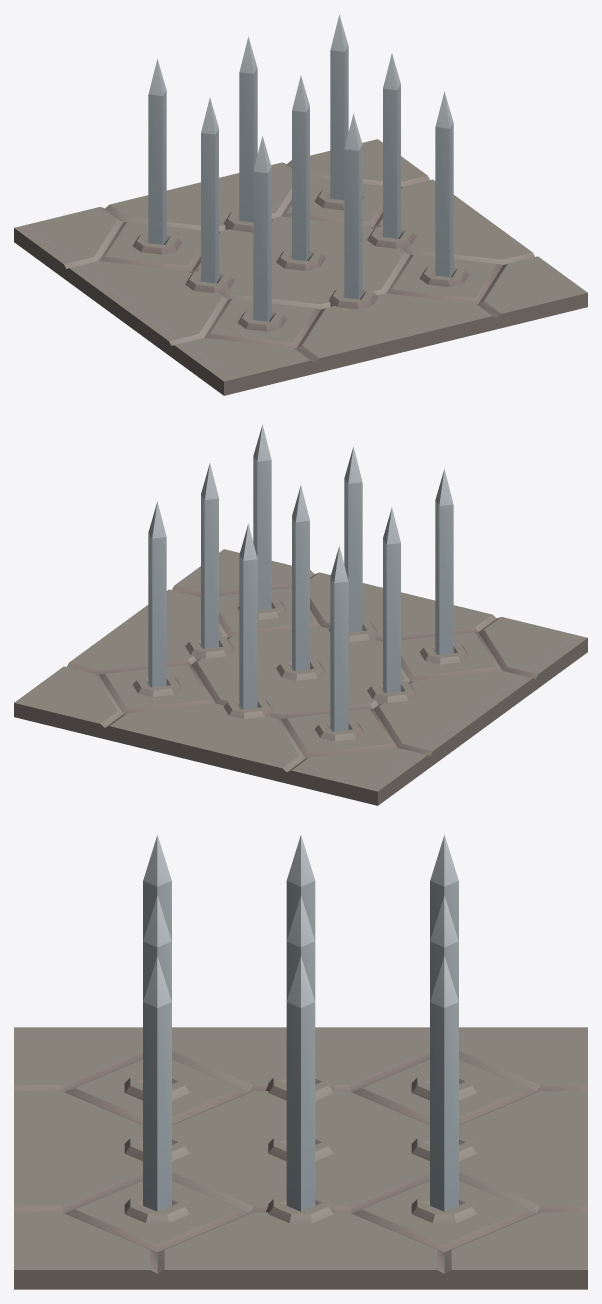
The model's file is floor_tile_big_spikes.gltf.
The picture shows the model from 3 angles, top to bottom: view 1: azimuth 30°, elevation 25°; view 2: azimuth 150°, elevation 25°; view 3: azimuth 270°, elevation 25°; orthographic projection. The views are drawn at different scales.
Parts seen in each view (by area): view 1: floor_tile_big_spikes, spikes; view 2: floor_tile_big_spikes, spikes; view 3: floor_tile_big_spikes, spikes.
Part boxes in pixels (x1,y1,x2,y2): floor_tile_big_spikes: (14,139,587,395); spikes: (148,14,453,321); floor_tile_big_spikes: (14,549,587,805); spikes: (148,424,453,731); floor_tile_big_spikes: (14,1027,587,1289); spikes: (143,834,458,1211).
Bounding box in the file's own units: 4 × 2.1 × 4.
Materials: 1 (1 with a texture image).
